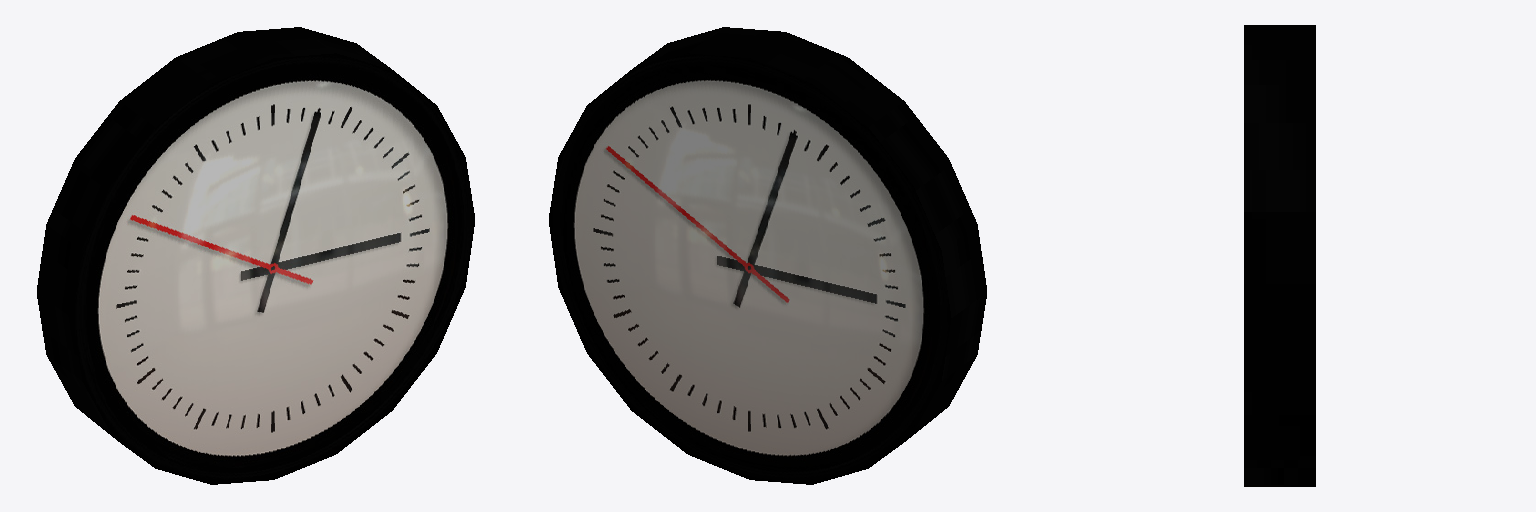
3 views of the same model, side by side, from view 1: azimuth 30°, elevation 25°; view 2: azimuth 150°, elevation 25°; view 3: azimuth 270°, elevation 25° (orthographic).
Visible parts, largest first — view 1: pCylinder1; view 2: pCylinder1; view 3: pCylinder1.
Part boxes in pixels (bbox=[...]): pCylinder1: bbox=[37, 27, 474, 484]; pCylinder1: bbox=[549, 27, 986, 484]; pCylinder1: bbox=[1244, 25, 1315, 486].
Size of the model in its own units: 2 by 2 by 0.309.
Materials: 1 (1 with a texture image).